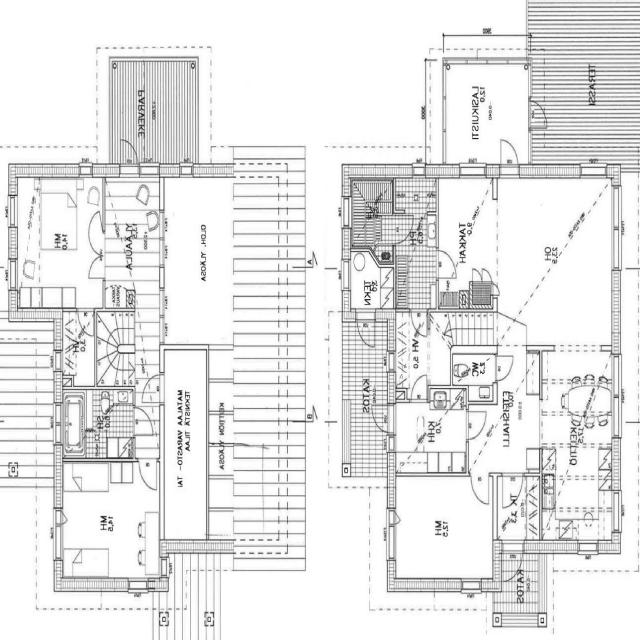door: (502, 540, 523, 585), (119, 134, 138, 177), (370, 405, 396, 433), (357, 309, 375, 349), (503, 472, 523, 508), (501, 137, 518, 178), (142, 404, 165, 431), (466, 412, 487, 439), (392, 216, 413, 243), (528, 101, 549, 128), (471, 472, 489, 503), (139, 458, 157, 489), (436, 251, 456, 278), (133, 408, 153, 435), (493, 356, 512, 381), (411, 374, 427, 402), (88, 231, 105, 255), (411, 309, 426, 336), (88, 255, 105, 278), (473, 268, 482, 286), (482, 268, 491, 285), (491, 285, 500, 296)
